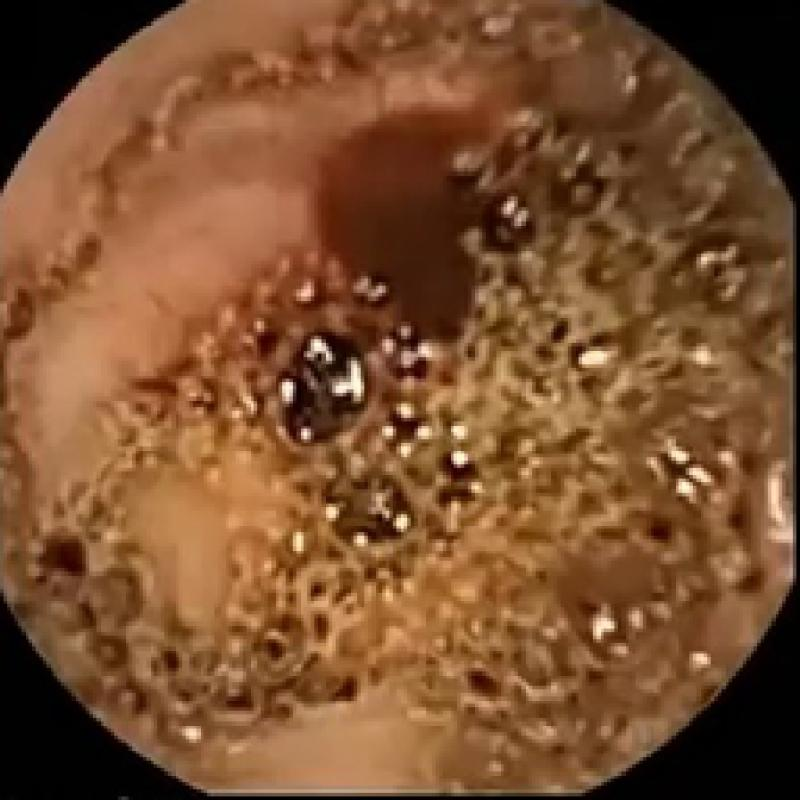bleeding: (281, 118, 521, 446), (36, 522, 91, 578), (363, 486, 413, 545), (435, 453, 484, 486)
